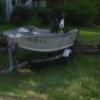Boat: (1, 21, 89, 65)
